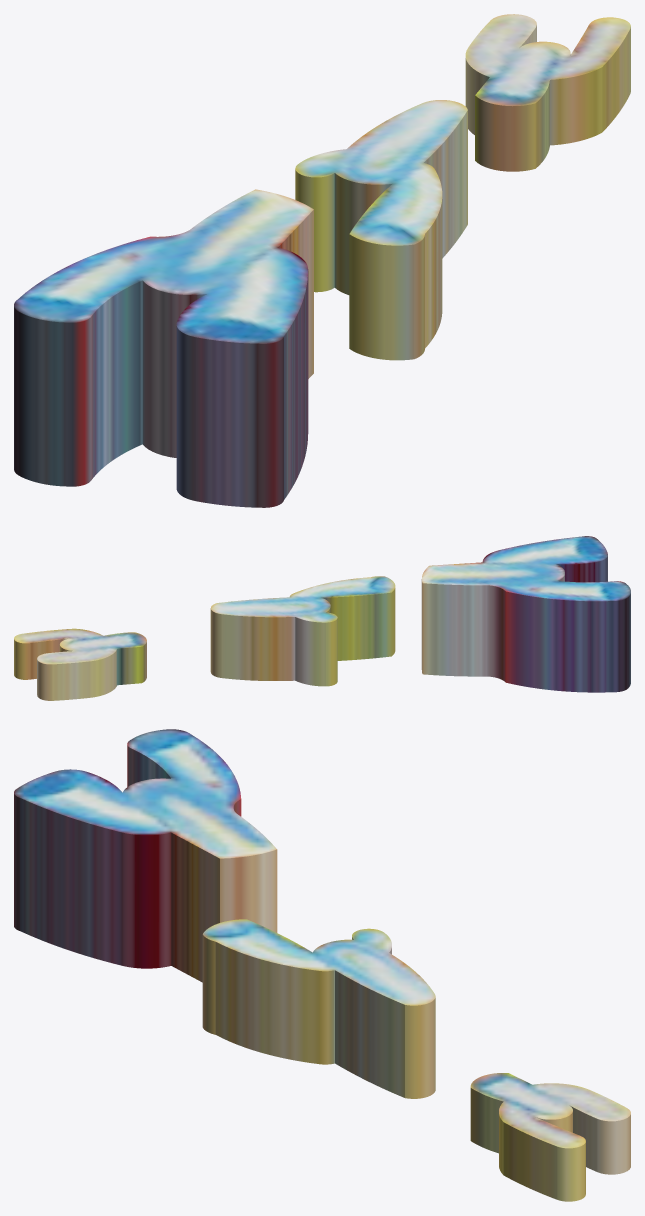
The model's file is alegoria 4.dae.
3 renders of one model, top to bottom at view 1: azimuth 30°, elevation 25°; view 2: azimuth 150°, elevation 25°; view 3: azimuth 270°, elevation 25°, orthographic. The views are drawn at different scales.
Visible parts, largest first — view 1: SketchUp (×3); view 2: SketchUp (×3); view 3: SketchUp (×3).
Boxes of the visible parts, x1,y1,x2,y2 form: SketchUp (×3): (14, 14, 630, 507); SketchUp (×3): (14, 536, 630, 700); SketchUp (×3): (14, 729, 630, 1201).
Bounding box in the file's own units: 20.47 × 15.73 × 3.75.
Materials: 1 (1 with a texture image).
